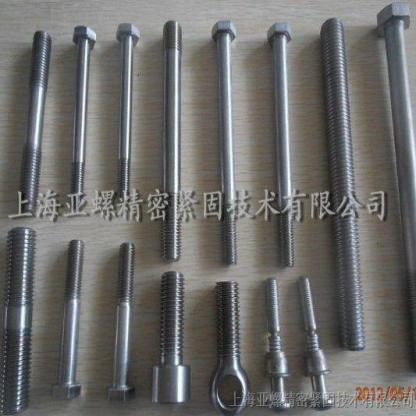FOD: (375, 2, 415, 372), (208, 18, 240, 266), (265, 18, 296, 270), (149, 269, 193, 408), (65, 25, 97, 214), (50, 236, 86, 402), (112, 22, 142, 215), (106, 239, 138, 406)
